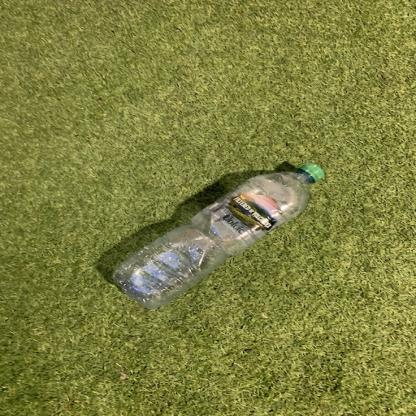trash: (110, 162, 325, 312)
